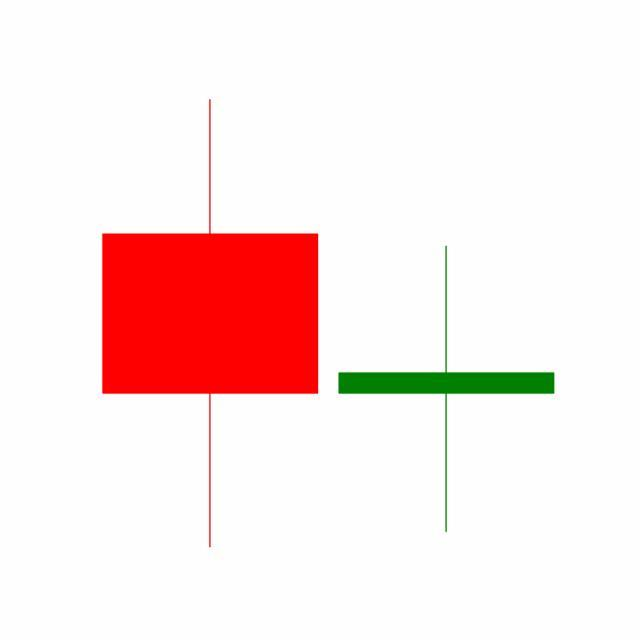Spinning Top: (328, 243, 566, 535)
